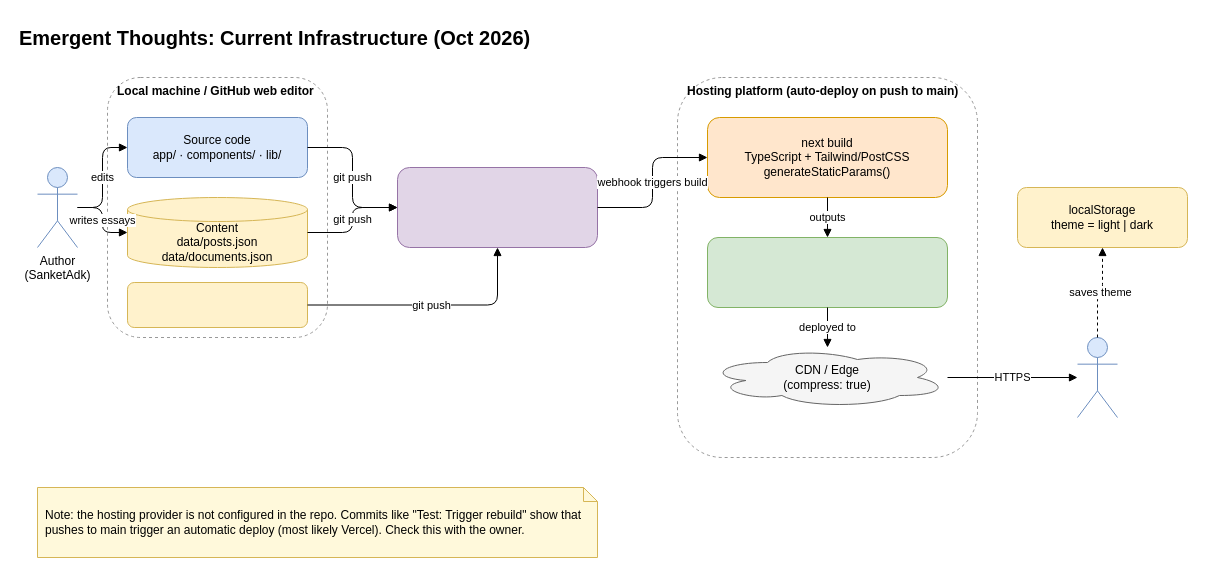
Some shapes in this 1205 by 575 pixel diagram are drawn without their labels. The shapes that lost their labels are listed below. From the top down, each one's centre as x and y in pixels, then its label:
point 497,207: GitHub repository SanketAdk/Emergent-Blog- branch: main
point 827,272: Pre-rendered static pages / · /archive · /posts/[slug]
point 217,305: PDF files "public /documents/"
point 1097,377: Reader (browser)
